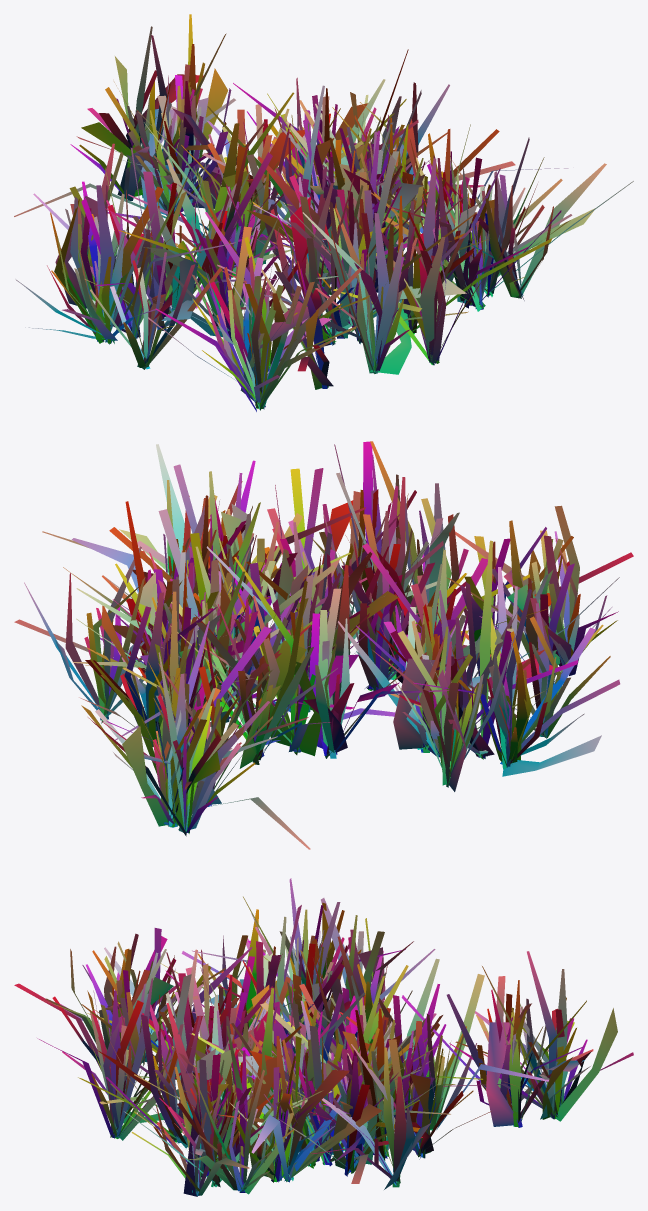
Rendered from Grass_Clumps_qmBr2_High_qmBr2_VarA_LOD1.fbx.
The picture shows the model from 3 angles, top to bottom: view 1: azimuth 30°, elevation 25°; view 2: azimuth 150°, elevation 25°; view 3: azimuth 270°, elevation 25°; orthographic projection. The views are drawn at different scales.
Visible parts, largest first — view 1: _c2fa_VarA_LOD1; view 2: _c2fa_VarA_LOD1; view 3: _c2fa_VarA_LOD1.
Boxes of the visible parts, <box> form: _c2fa_VarA_LOD1: <box>14,14,633,411</box>; _c2fa_VarA_LOD1: <box>14,441,633,849</box>; _c2fa_VarA_LOD1: <box>14,878,633,1196</box>.
Bounding box in the file's own units: 77.18 × 25.89 × 81.95.
